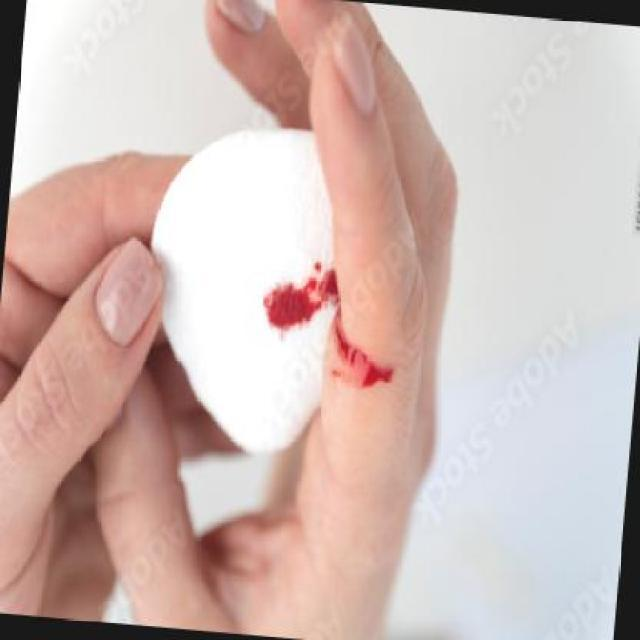wound: (244, 253, 416, 419)
